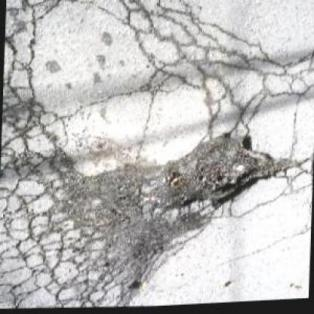Hueco: (159, 128, 301, 220)
